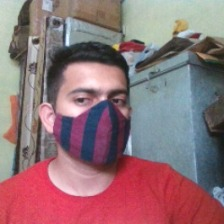Masked: (48, 109, 134, 168)
